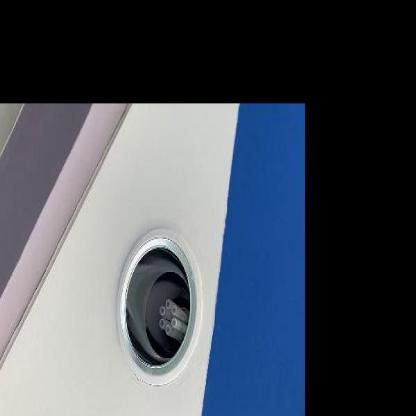light_off: (106, 194, 208, 398)
